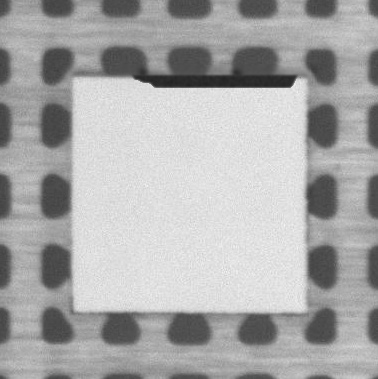DIE_BROKEN: (127, 70, 303, 90)
